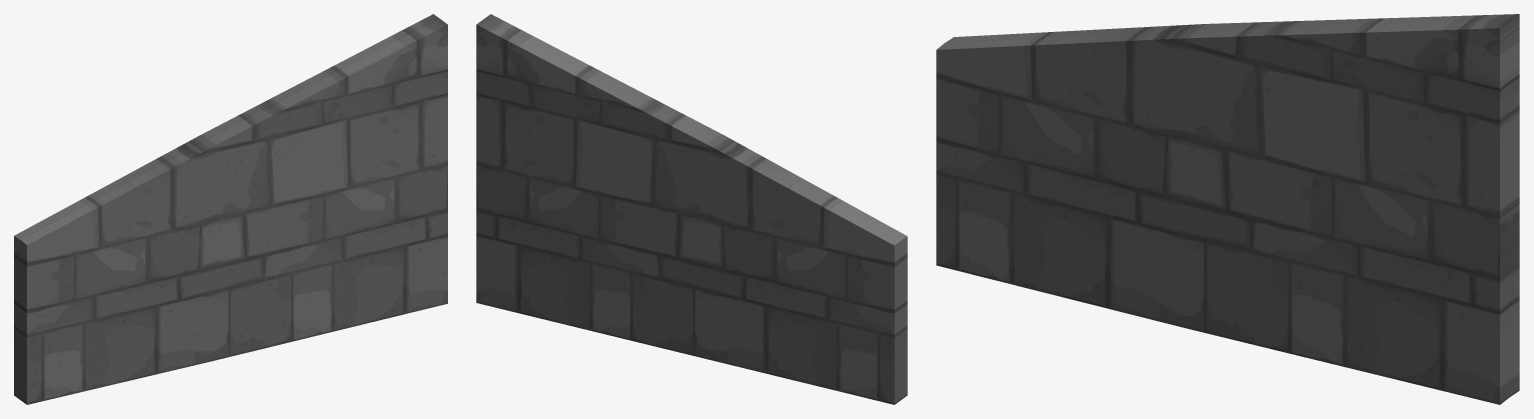
The model's file is SM_Bld_Bridge_L_Ramp_End_01.fbx.
3 views of the same model, side by side, from view 1: azimuth 30°, elevation 25°; view 2: azimuth 150°, elevation 25°; view 3: azimuth 330°, elevation 25° (orthographic). The views are drawn at different scales.
Parts seen in each view (by area): view 1: SM_Bld_Bridge_L_Ramp_End_01; view 2: SM_Bld_Bridge_L_Ramp_End_01; view 3: SM_Bld_Bridge_L_Ramp_End_01.
Boxes of the visible parts, x1,y1,x2,y2 form: SM_Bld_Bridge_L_Ramp_End_01: (14, 14, 447, 404); SM_Bld_Bridge_L_Ramp_End_01: (476, 14, 907, 404); SM_Bld_Bridge_L_Ramp_End_01: (936, 14, 1519, 404).
Bounding box in the file's own units: 943 × 601 × 56.54.
Materials: 1 (1 with a texture image).
